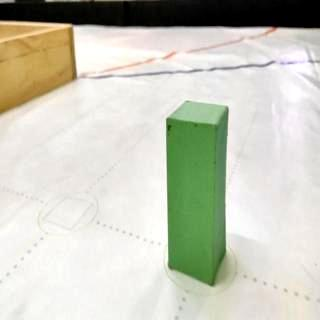greenbox: (164, 97, 230, 286)
